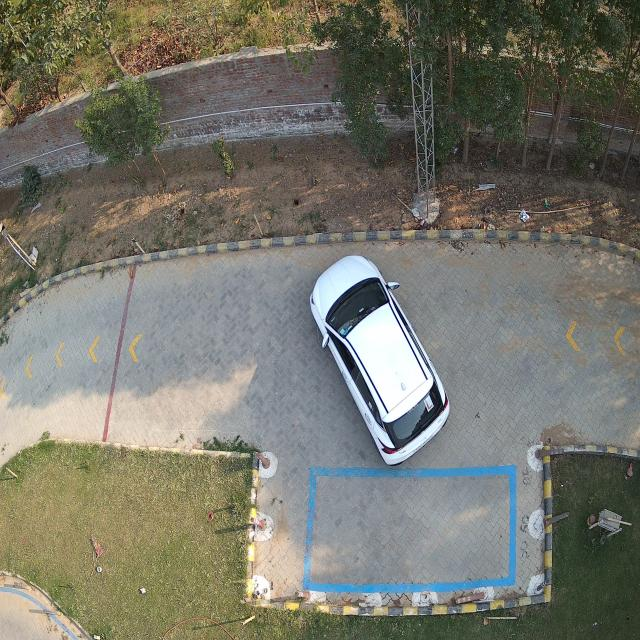car: (309, 254, 450, 466)
